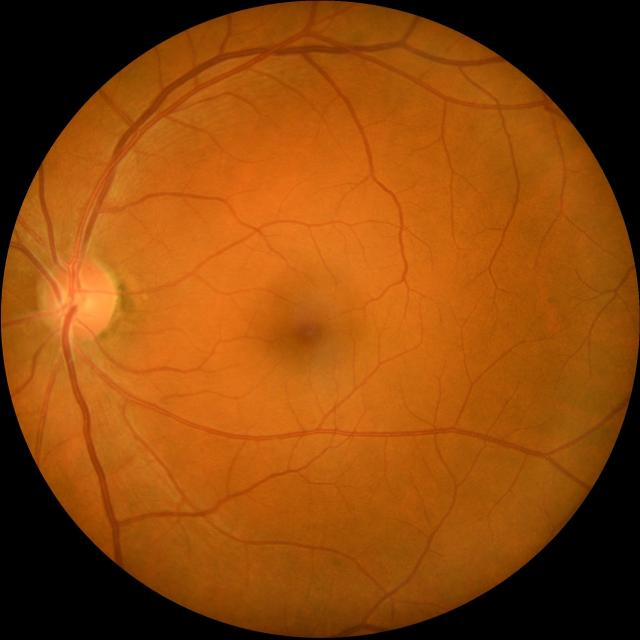OC: (60, 285, 91, 313)
OD: (43, 259, 114, 340)
